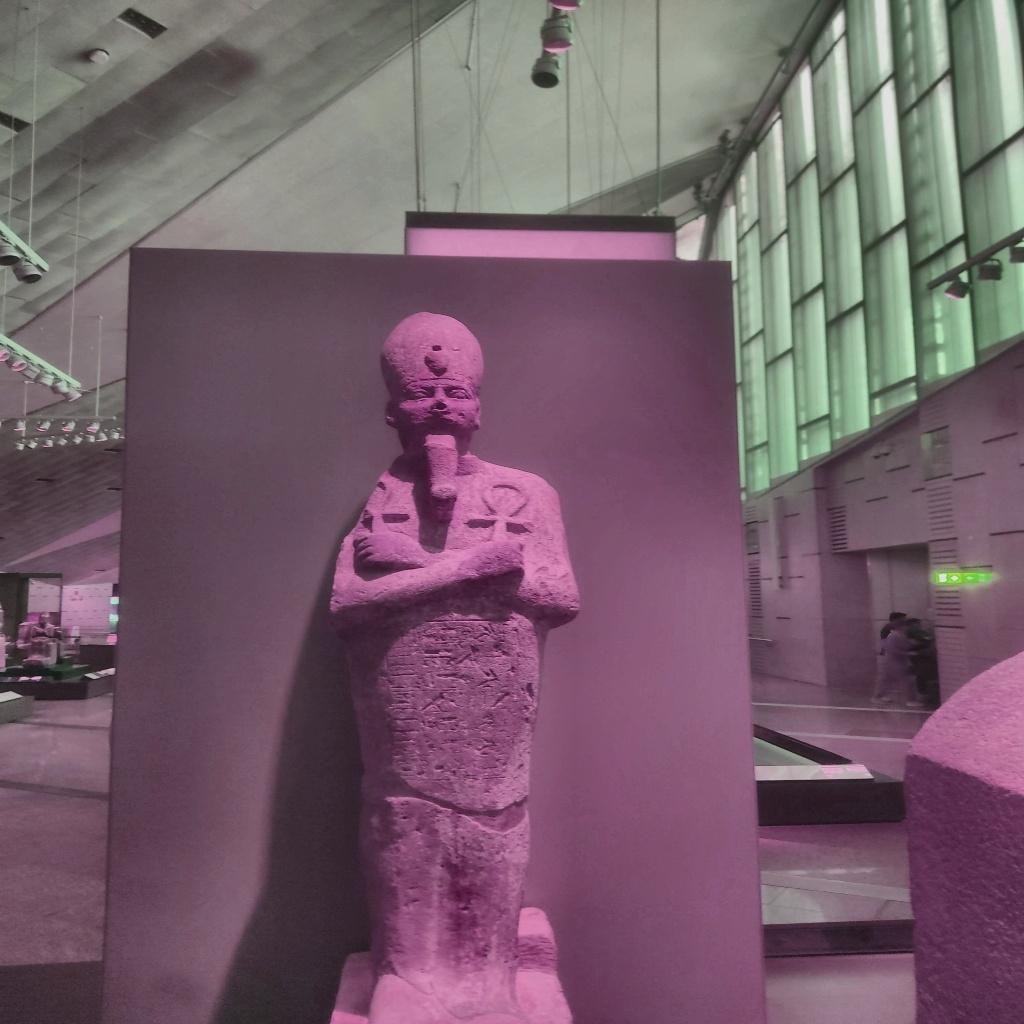Statue of Mentuhotep II: (290, 307, 590, 1024)
